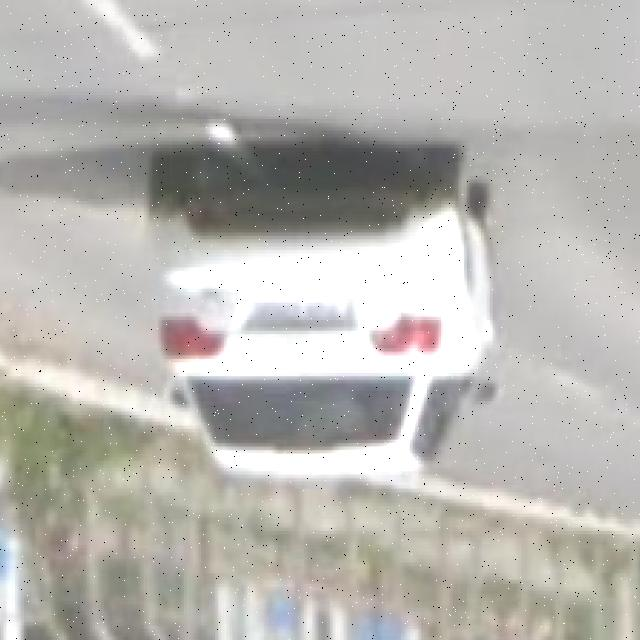car: (157, 149, 495, 491)
